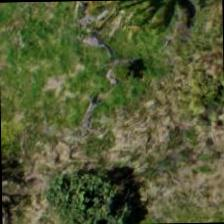Kelapa_Sawit: (75, 0, 167, 48)
